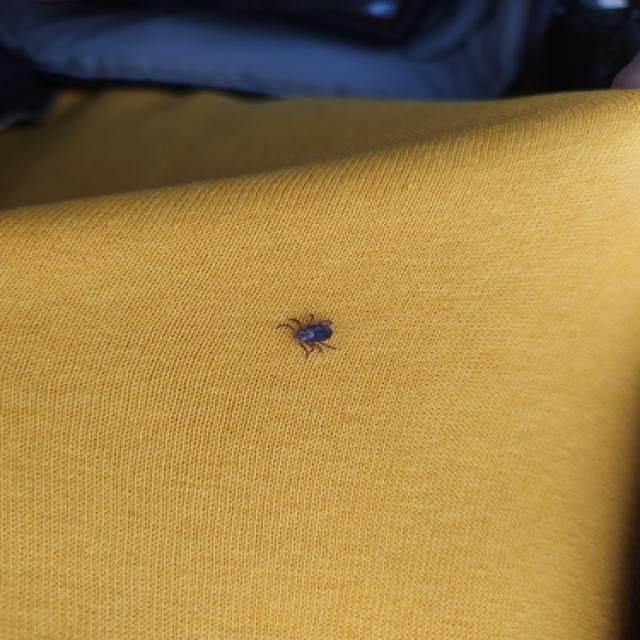Dermacentor Reticulatus-F: (276, 314, 338, 362)
